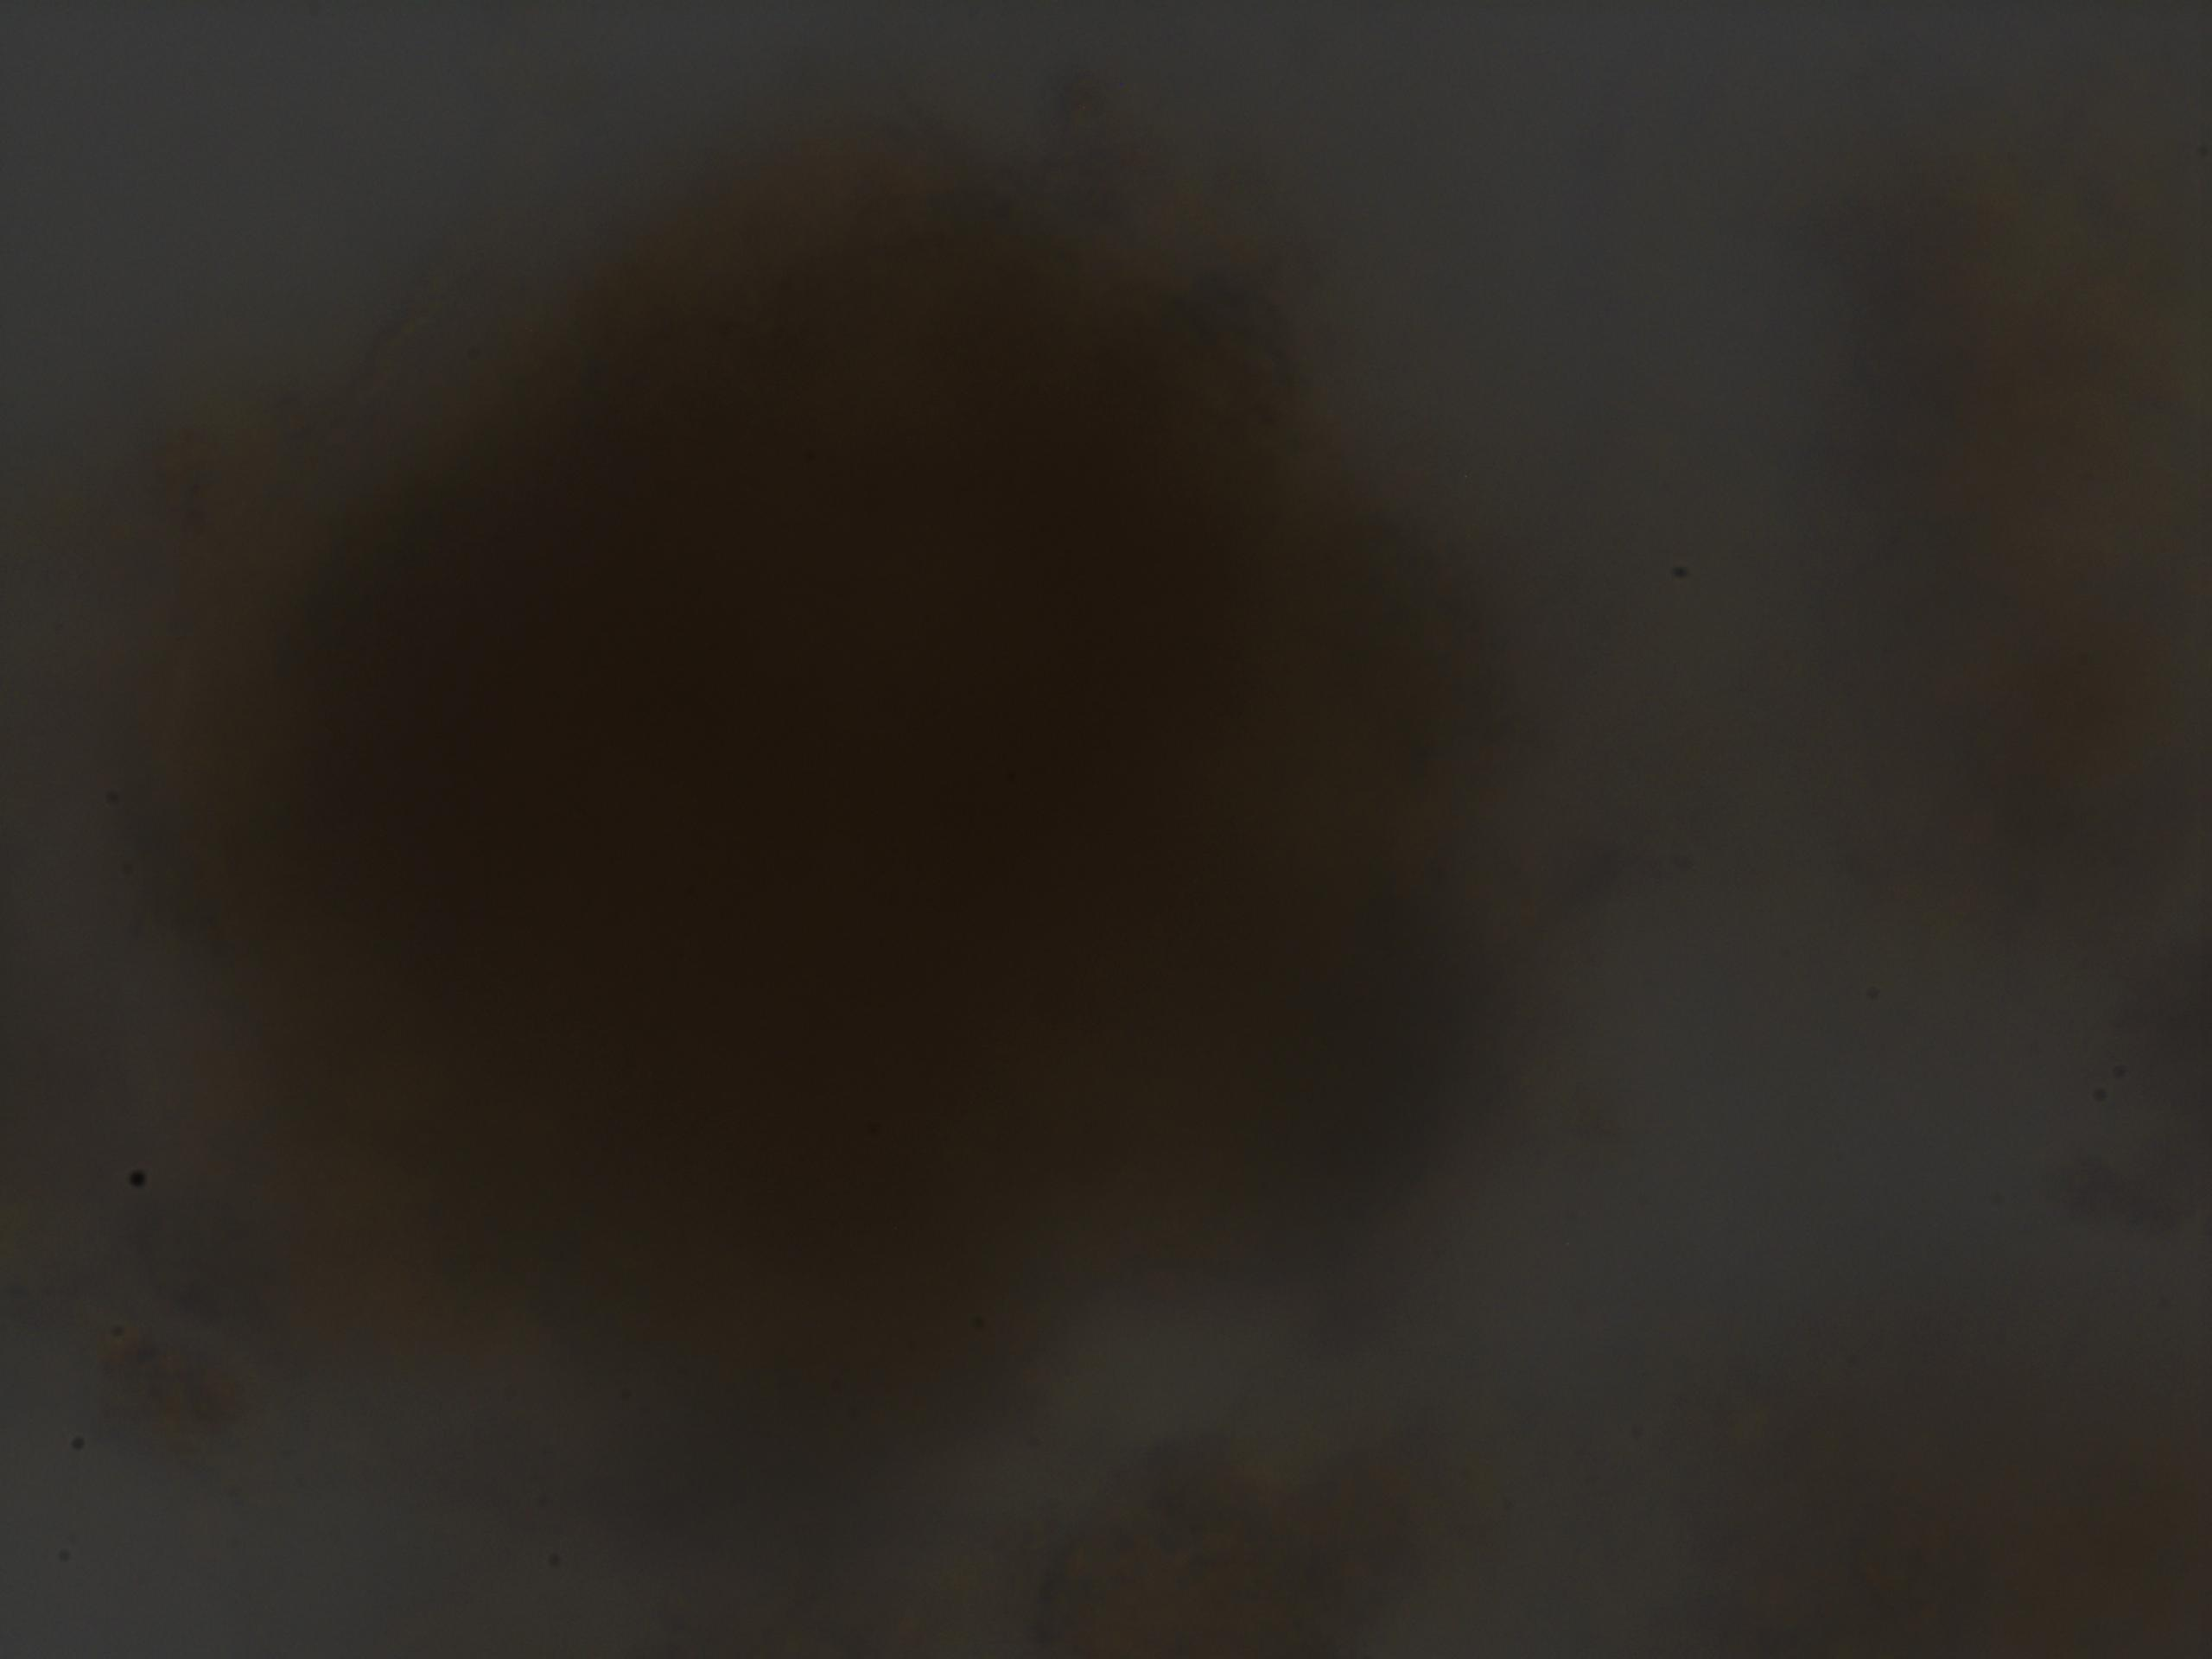spherical_floc: (181, 103, 1510, 1507)
